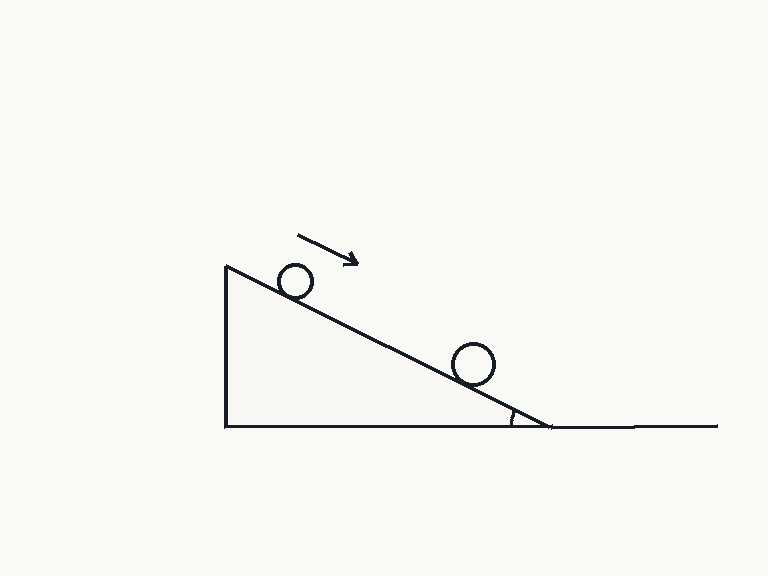ball: (449, 340, 497, 388), (275, 261, 315, 301)
ramp: (223, 265, 553, 428)
